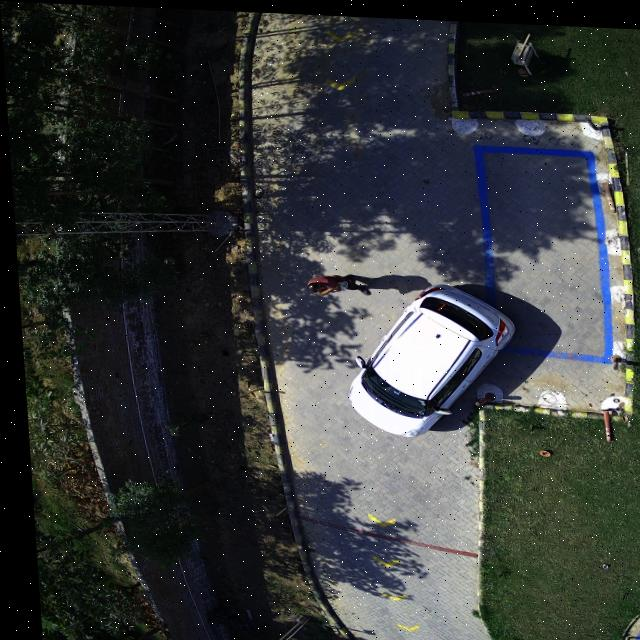car: (342, 278, 513, 432)
